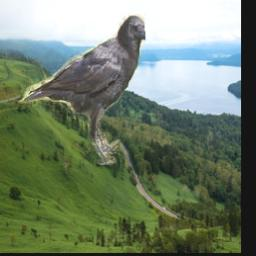Crow: (18, 15, 145, 166)
